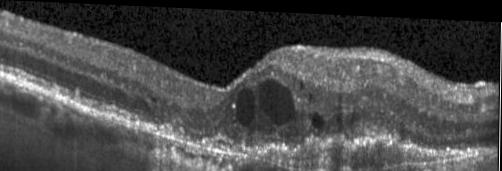intraretinal_cyst: (259, 76, 297, 125), (236, 85, 256, 125), (311, 109, 324, 127), (309, 91, 312, 98), (301, 80, 304, 86)
subretinal_hyperreflective_material: (249, 133, 493, 168), (202, 135, 244, 151), (143, 123, 175, 136)
